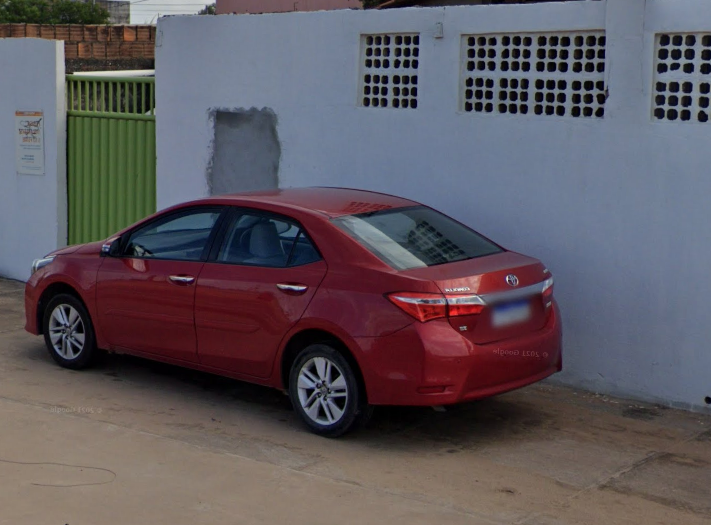car: (23, 183, 566, 438)
